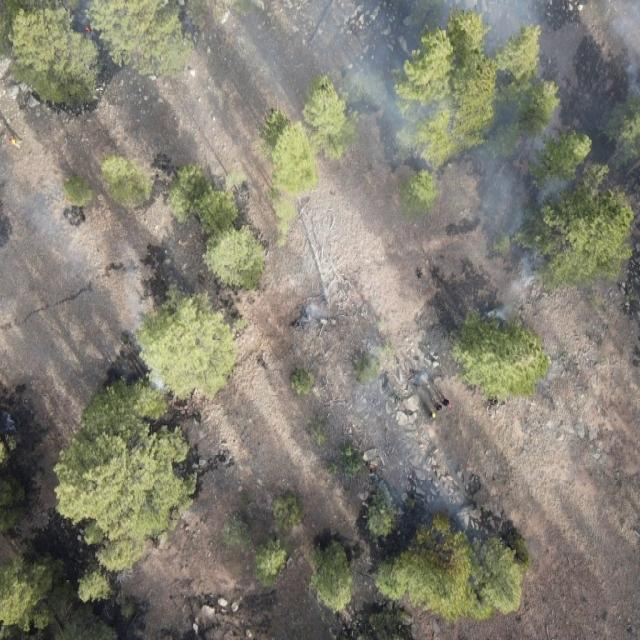fire: (78, 23, 94, 38)
smoke: (300, 0, 640, 174), (446, 176, 571, 323), (356, 372, 432, 506), (101, 282, 176, 400), (294, 278, 352, 348)
